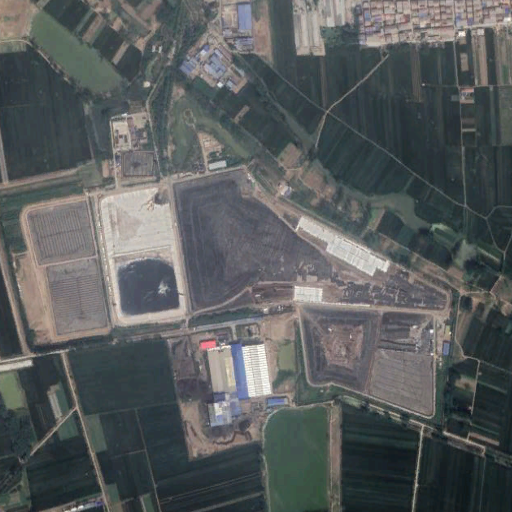lf: (171, 166, 449, 414)
